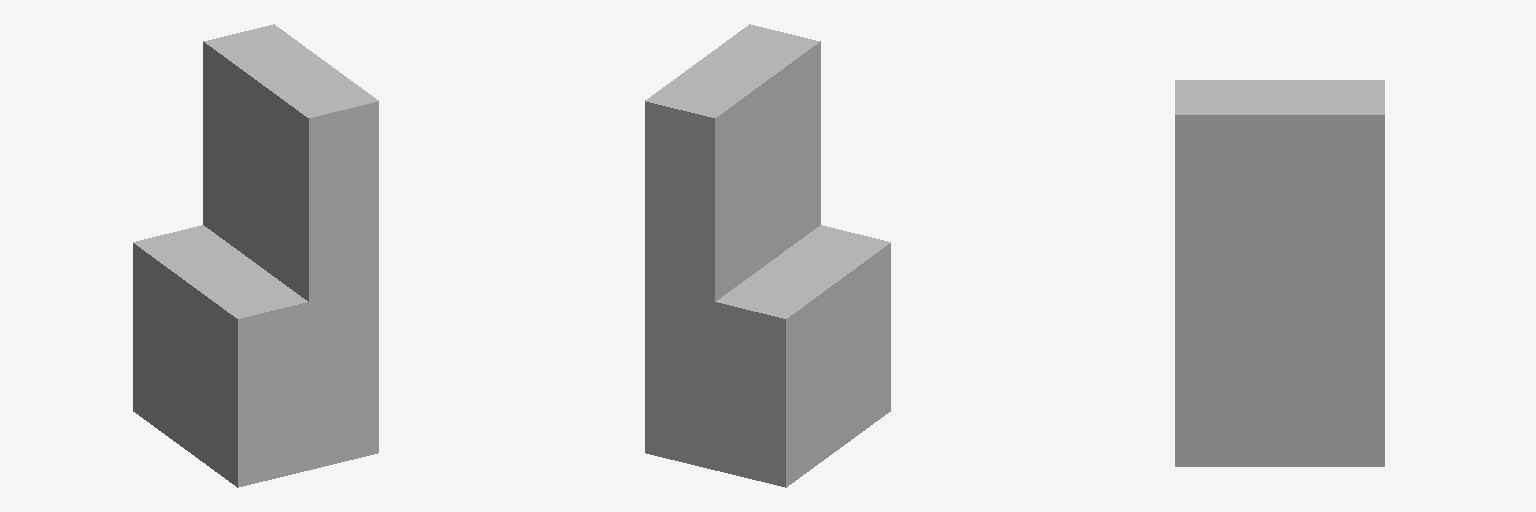
File: lab_1.obj
3 views of the same model, side by side, from view 1: azimuth 30°, elevation 25°; view 2: azimuth 150°, elevation 25°; view 3: azimuth 270°, elevation 25° (orthographic).
Parts seen in each view (by area): view 1: Mesh1 Group1 Model; view 2: Mesh1 Group1 Model; view 3: Mesh1 Group1 Model.
Boxes of the visible parts, x1,y1,x2,y2 form: Mesh1 Group1 Model: [133, 24, 378, 487]; Mesh1 Group1 Model: [645, 24, 890, 487]; Mesh1 Group1 Model: [1175, 80, 1384, 466].
Bounding box in the file's own units: 63.19 × 150 × 81.19.